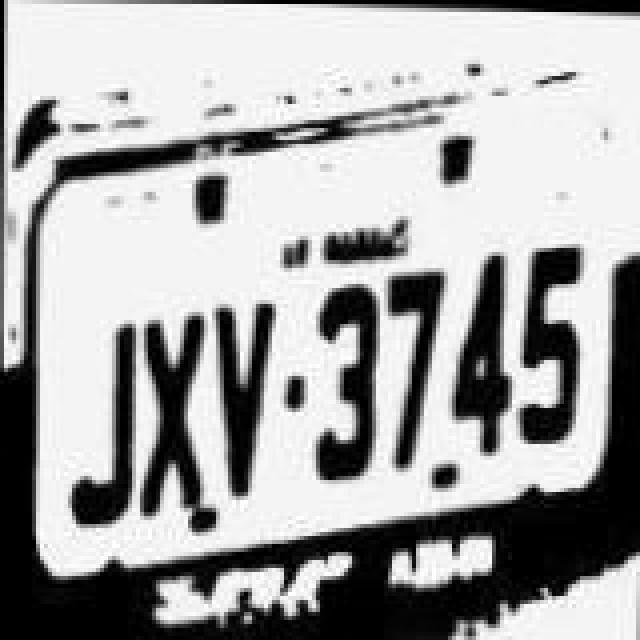3: (308, 274, 380, 494)
4: (446, 222, 518, 458)
5: (516, 234, 592, 466)
7: (384, 262, 452, 478)
J: (62, 306, 138, 538)
V: (210, 280, 278, 512)
X: (138, 290, 206, 518)
